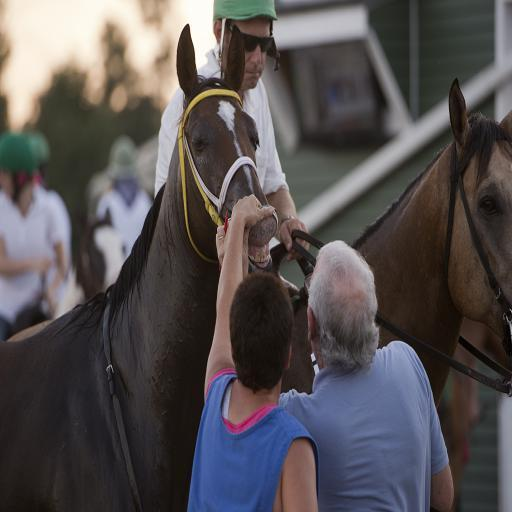horse: (0, 22, 280, 510), (278, 79, 512, 410), (5, 204, 124, 341)
